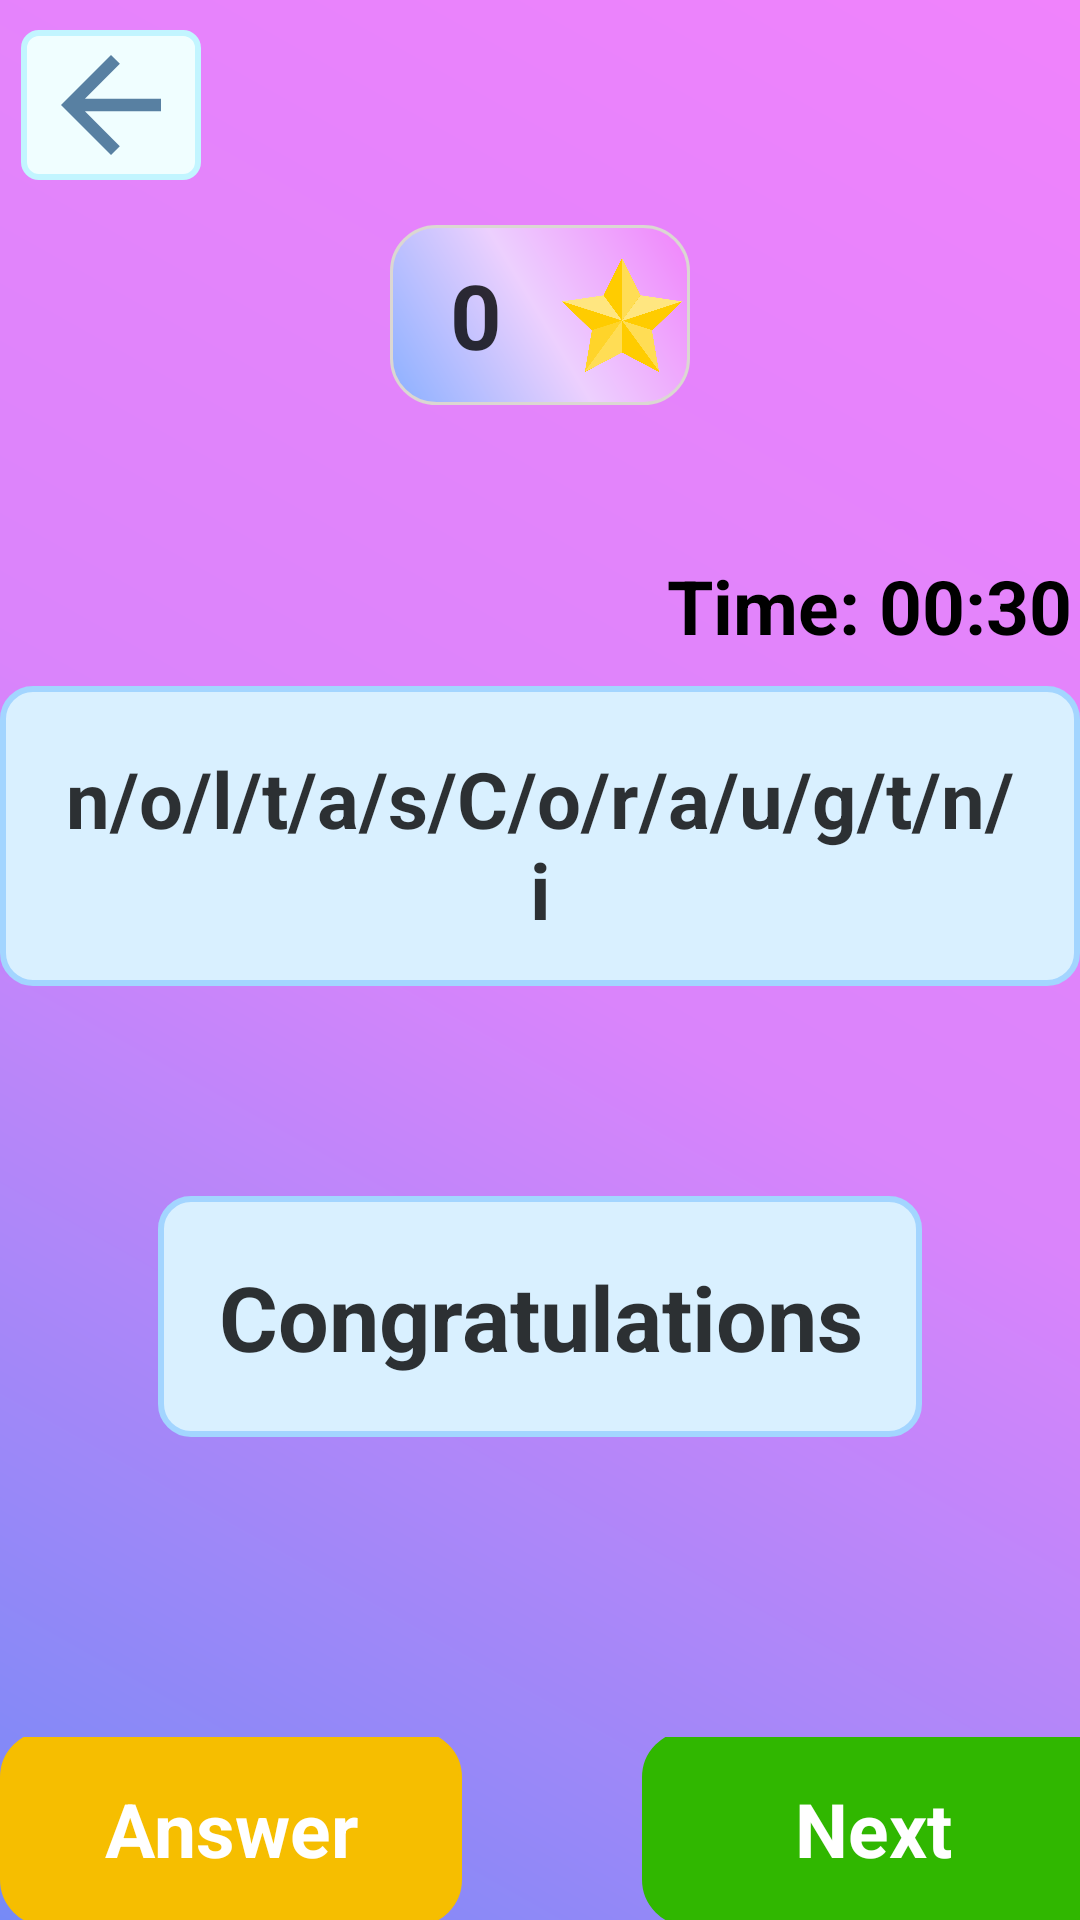

Where to tap for icons on this 1080 x 1920 app screen, as (x,y):
back: (111,105)
star: (622,315)
